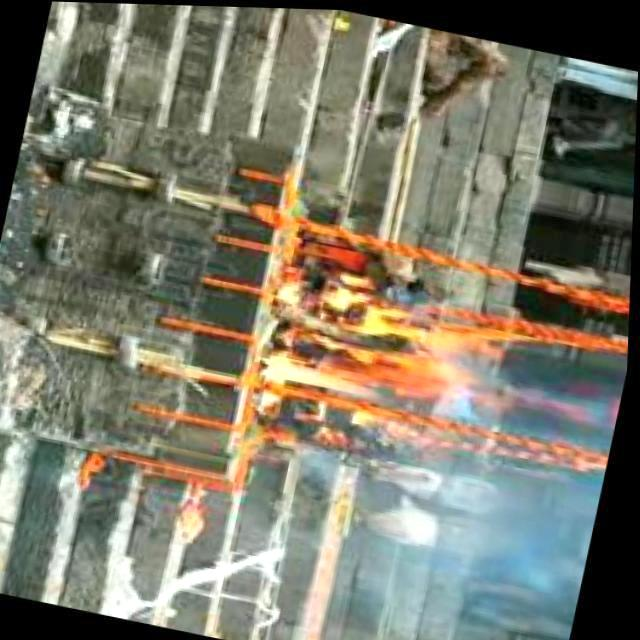fire: (251, 277, 533, 431)
